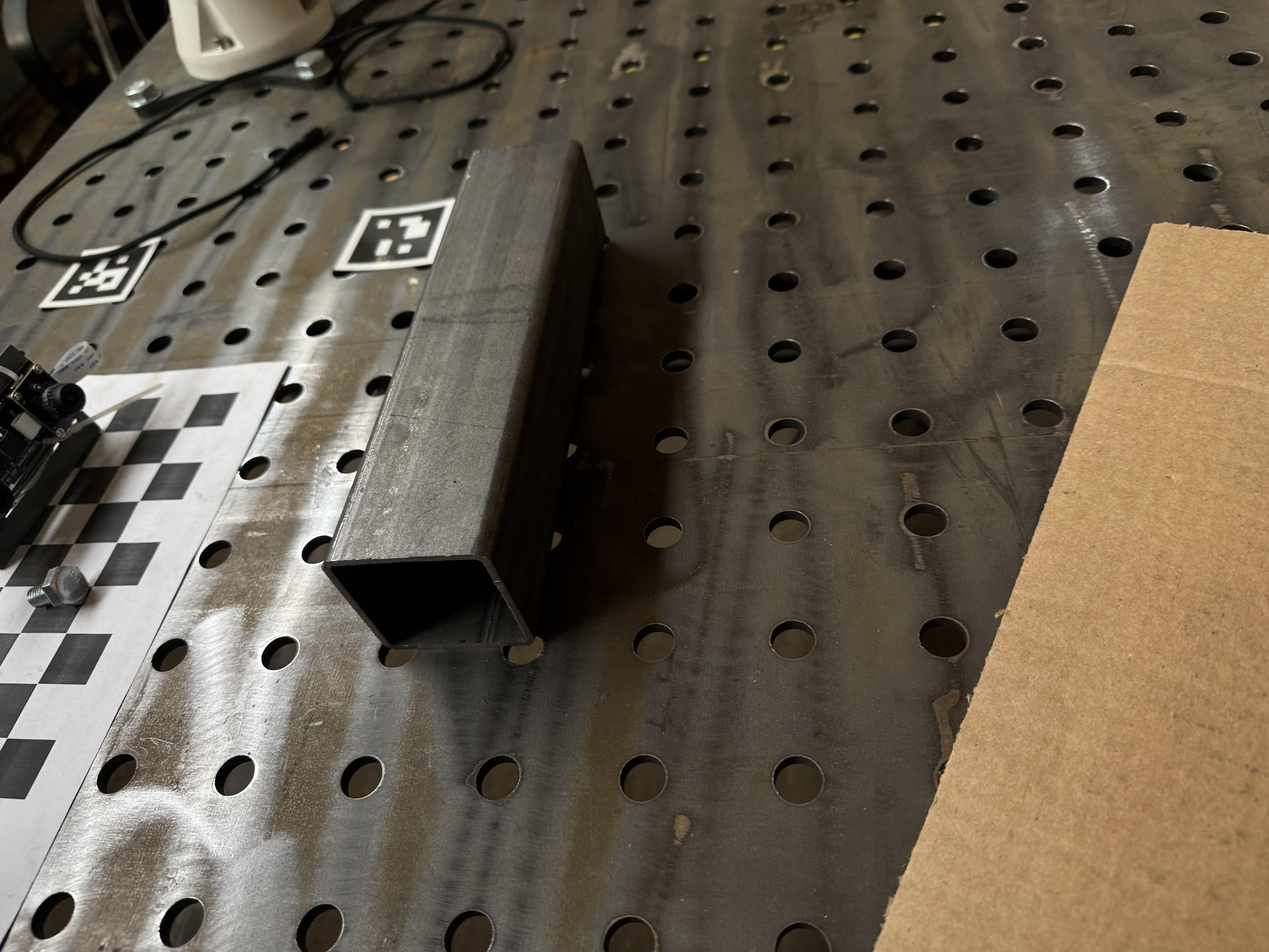detail: (322, 139, 605, 650)
